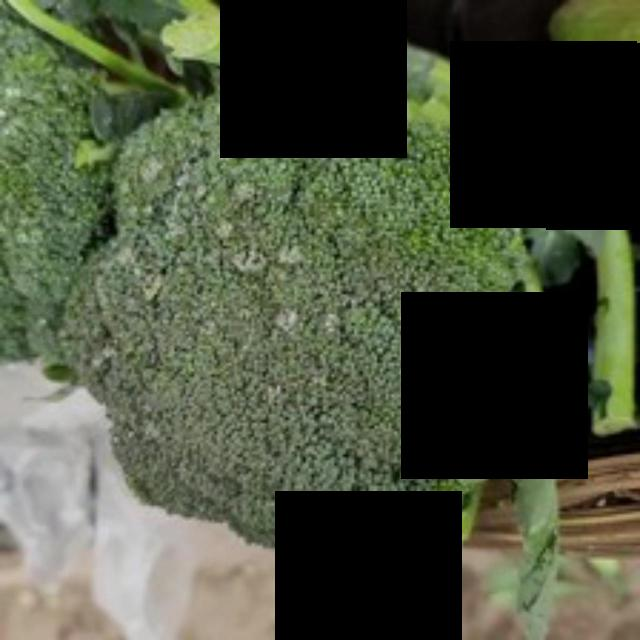broccoli: (59, 85, 524, 556)
